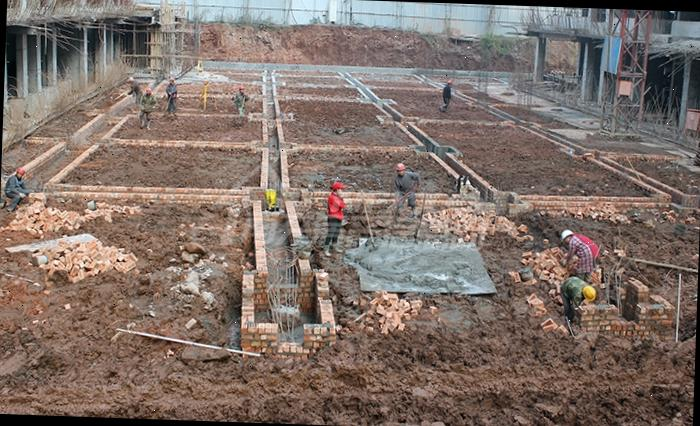helmet: (582, 282, 597, 302), (559, 228, 575, 241), (330, 180, 344, 192), (394, 160, 406, 172), (17, 168, 30, 178)
no_wear: (562, 277, 582, 304), (397, 175, 417, 200), (570, 242, 589, 267), (326, 194, 343, 220), (8, 175, 26, 198)
